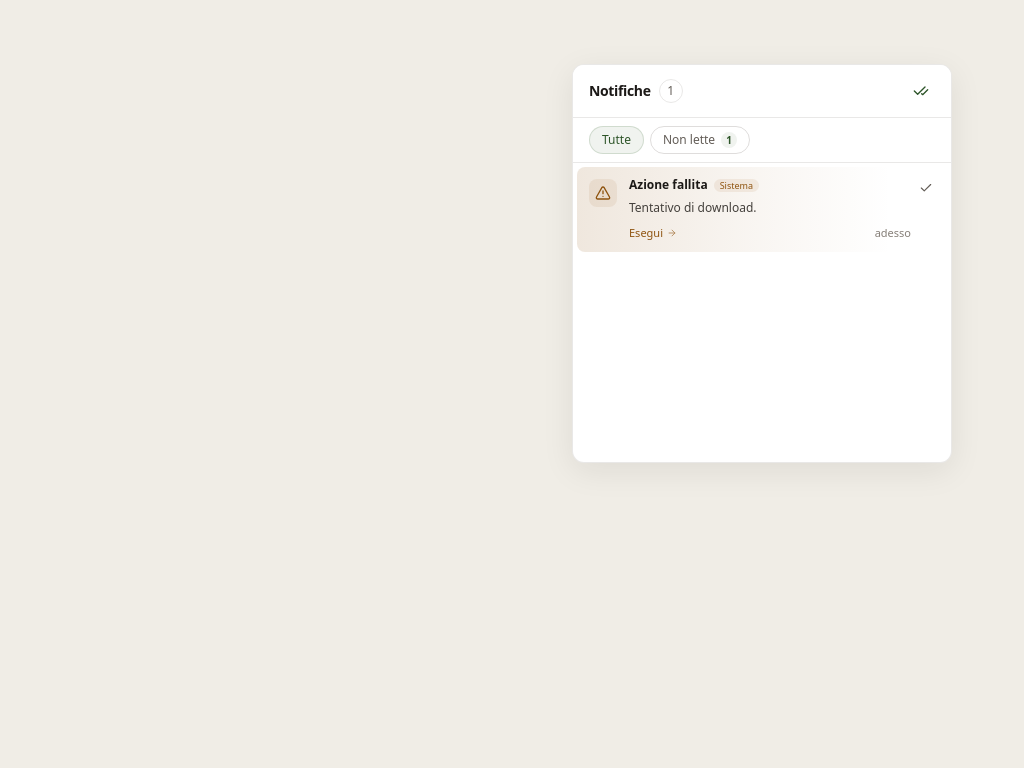
Scenario: NotificationDropdown component › handles action button error state gracefully
Click the button "Esegui" at (653, 233), box [629, 225, 677, 242]
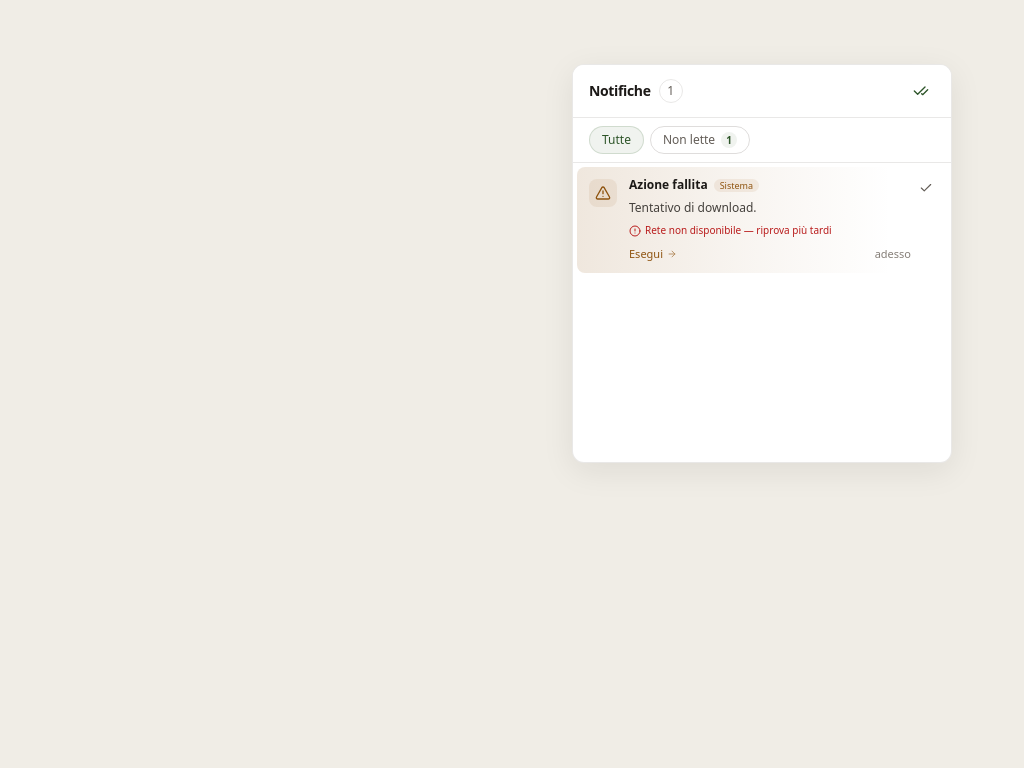
expect the text "Rete non disponibile — riprova più tardi" is shown: met, box [645, 223, 832, 238]
